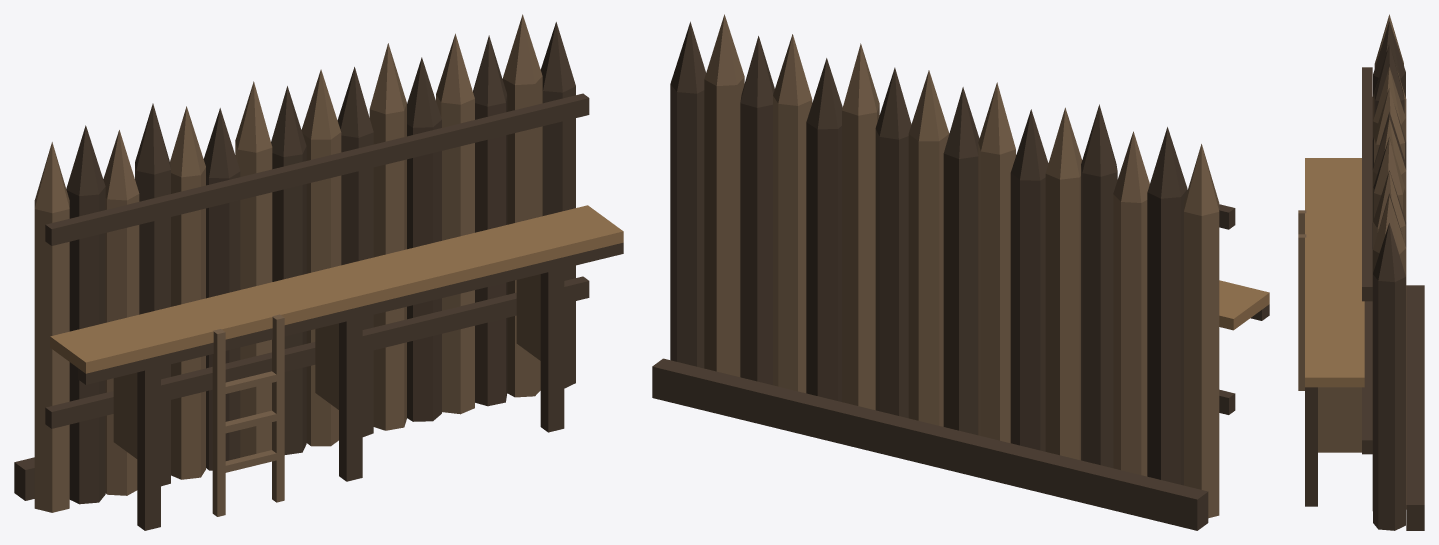
The model's file is camp_wall_wood.glb.
The picture shows the model from 3 angles, left to right: view 1: azimuth 30°, elevation 25°; view 2: azimuth 150°, elevation 25°; view 3: azimuth 270°, elevation 25°; orthographic projection. The views are drawn at different scales.
Parts seen in each view (by area): view 1: camp_wall_wood; view 2: camp_wall_wood; view 3: camp_wall_wood.
Part boxes in pixels (x1,y1,x2,y2): camp_wall_wood: [14, 14, 623, 530]; camp_wall_wood: [652, 14, 1269, 530]; camp_wall_wood: [1298, 14, 1424, 530].
Size of what is drawn, in the model's own units: 4.01 by 2.7 by 0.97.
Materials: 1 (1 with a texture image).
